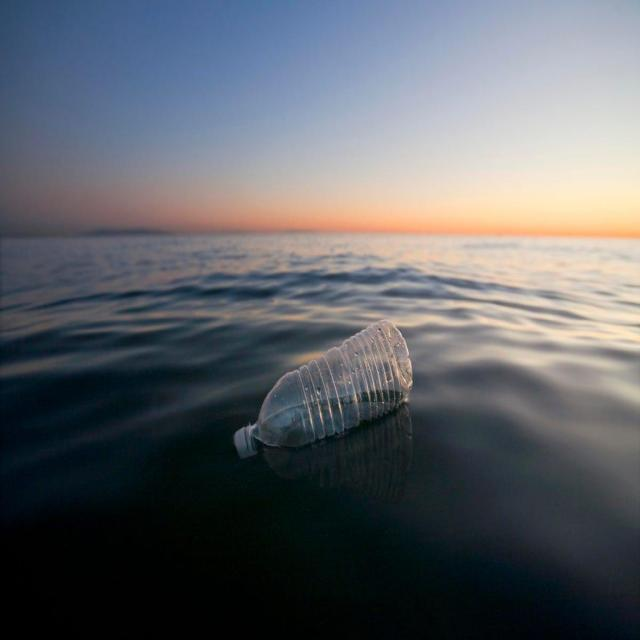bottle: (224, 303, 418, 471)
